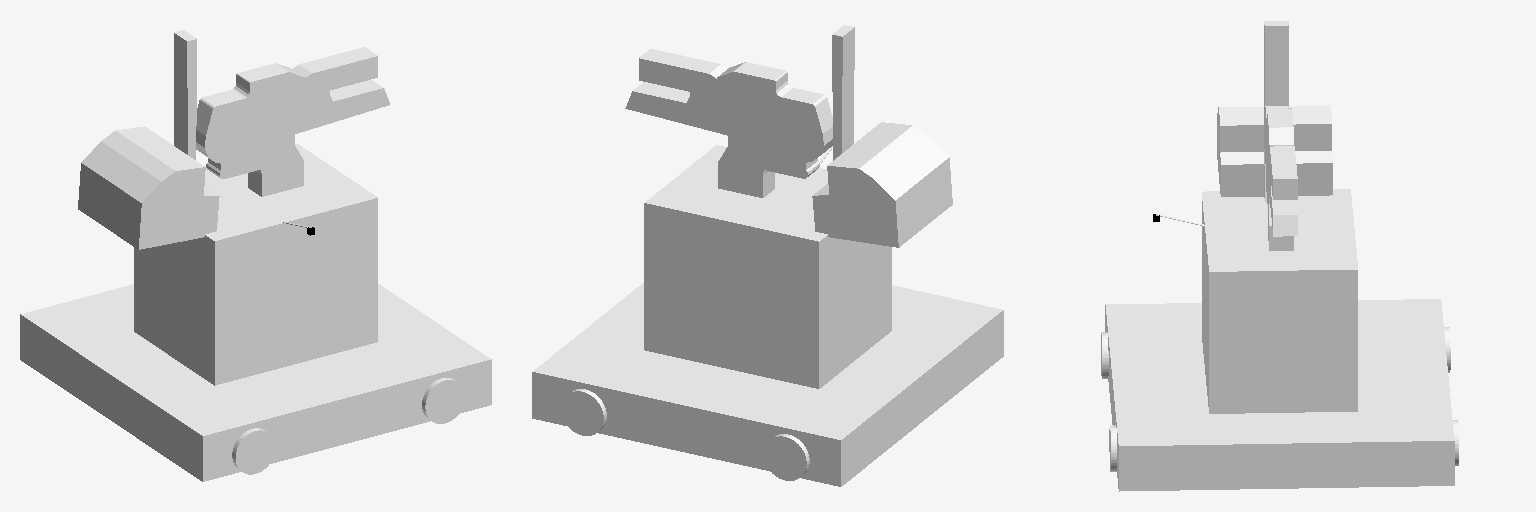
URDF robot description (robot):
<?xml version="1.0" encoding="utf-8"?>
<!-- This URDF was automatically created by SolidWorks to URDF Exporter! Originally created by [author] ([email redacted]) 
     Commit Version: 1.6.0-4-g7f85cfe  Build Version: 1.6.7995.38578
     For more information, please see http://wiki.ros.org/sw_urdf_exporter -->
<robot
  name="robot">
  <link
    name="base_link">
    <inertial>
      <origin
        xyz="0 0 0"
        rpy="0 0 0" />
      <mass
        value="10" />
      <inertia
        ixx="0.1"
        ixy="0"
        ixz="0"
        iyy="0.1"
        iyz="0"
        izz="0.1" />
    </inertial>
    <visual>
      <origin
        xyz="0 0 0"
        rpy="0 0 0" />
      <geometry>
        <mesh
          filename="package://robot/meshes/base_link.STL" />
      </geometry>
      <material
        name="">
        <color
          rgba="1 1 1 1" />
      </material>
    </visual>
    <collision>
      <origin
        xyz="0 0 0"
        rpy="0 0 0" />
      <geometry>
        <mesh
          filename="package://robot/meshes/base_link.STL" />
      </geometry>
    </collision>
  </link>
  <link
    name="wheel_link1">
    <inertial>
      <origin
        xyz="0 0 0"
        rpy="0 0 0" />
      <mass
        value="2" />
      <inertia
        ixx="0.01"
        ixy="0"
        ixz="0"
        iyy="0.01"
        iyz="0"
        izz="0.01" />
    </inertial>
    <visual>
      <origin
        xyz="0 0 0"
        rpy="0 0 0" />
      <geometry>
        <mesh
          filename="package://robot/meshes/wheel_link1.STL" />
      </geometry>
      <material
        name="">
        <color
          rgba="1 1 1 1" />
      </material>
    </visual>
    <collision>
      <origin
        xyz="0 0 0"
        rpy="0 0 0" />
      <geometry>
        <mesh
          filename="package://robot/meshes/wheel_link1.STL" />
      </geometry>
    </collision>
  </link>
  <joint
    name="wheel_joint1"
    type="continuous">
    <origin
      xyz="0.15595 -0.26408 -0.1411"
      rpy="0 0 0" />
    <parent
      link="base_link" />
    <child
      link="wheel_link1" />
    <axis
      xyz="0 1 0" />
  </joint>
  <link
    name="wheel_link2">
    <inertial>
      <origin
        xyz="0 0 0"
        rpy="0 0 0" />
      <mass
        value="2" />
      <inertia
        ixx="0.01"
        ixy="0"
        ixz="0"
        iyy="0.01"
        iyz="0"
        izz="0.01" />
    </inertial>
    <visual>
      <origin
        xyz="0 0 0"
        rpy="0 0 0" />
      <geometry>
        <mesh
          filename="package://robot/meshes/wheel_link2.STL" />
      </geometry>
      <material
        name="">
        <color
          rgba="1 1 1 1" />
      </material>
    </visual>
    <collision>
      <origin
        xyz="0 0 0"
        rpy="0 0 0" />
      <geometry>
        <mesh
          filename="package://robot/meshes/wheel_link2.STL" />
      </geometry>
    </collision>
  </link>
  <joint
    name="wheel_joint2"
    type="continuous">
    <origin
      xyz="-0.19822 -0.2881 -0.1411"
      rpy="0 0 0" />
    <parent
      link="base_link" />
    <child
      link="wheel_link2" />
    <axis
      xyz="0 1 0" />
  </joint>
  <link
    name="wheel_link3">
    <inertial>
      <origin
        xyz="0 0 0"
        rpy="0 0 0" />
      <mass
        value="2" />
      <inertia
        ixx="0.01"
        ixy="0"
        ixz="0"
        iyy="0.01"
        iyz="0"
        izz="0.01" />
    </inertial>
    <visual>
      <origin
        xyz="0 0 0"
        rpy="0 0 0" />
      <geometry>
        <mesh
          filename="package://robot/meshes/wheel_link3.STL" />
      </geometry>
      <material
        name="">
        <color
          rgba="1 1 1 1" />
      </material>
    </visual>
    <collision>
      <origin
        xyz="0 0 0"
        rpy="0 0 0" />
      <geometry>
        <mesh
          filename="package://robot/meshes/wheel_link3.STL" />
      </geometry>
    </collision>
  </link>
  <joint
    name="wheel_joint3"
    type="continuous">
    <origin
      xyz="-0.21996 0.26147 -0.1411"
      rpy="0 0 0" />
    <parent
      link="base_link" />
    <child
      link="wheel_link3" />
    <axis
      xyz="0 1 0" />
  </joint>
  <link
    name="wheel_link4">
    <inertial>
      <origin
        xyz="0 0 0"
        rpy="0 0 0" />
      <mass
        value="2" />
      <inertia
        ixx="0.01"
        ixy="0"
        ixz="0"
        iyy="0.01"
        iyz="0"
        izz="0.01" />
    </inertial>
    <visual>
      <origin
        xyz="0 0 0"
        rpy="0 0 0" />
      <geometry>
        <mesh
          filename="package://robot/meshes/wheel_link4.STL" />
      </geometry>
      <material
        name="">
        <color
          rgba="1 1 1 1" />
      </material>
    </visual>
    <collision>
      <origin
        xyz="0 0 0"
        rpy="0 0 0" />
      <geometry>
        <mesh
          filename="package://robot/meshes/wheel_link4.STL" />
      </geometry>
    </collision>
  </link>
  <joint
    name="wheel_joint4"
    type="continuous">
    <origin
      xyz="0.13421 0.28549 -0.1411"
      rpy="0 0 0" />
    <parent
      link="base_link" />
    <child
      link="wheel_link4" />
    <axis
      xyz="0 1 0" />
  </joint>
  <link
    name="lidar_link">
    <inertial>
      <origin
        xyz="0 0 0"
        rpy="0 0 0" />
      <mass
        value="0.1" />
      <inertia
        ixx="0"
        ixy="0"
        ixz="0"
        iyy="0"
        iyz="0"
        izz="0" />
    </inertial>
    <visual>
      <origin
        xyz="0 0 0"
        rpy="0 0 0" />
      <geometry>
        <mesh
          filename="package://robot/meshes/lidar_link.STL" />
      </geometry>
      <material
        name="">
        <color
          rgba="0 0 0 1" />
      </material>
    </visual>
    <collision>
      <origin
        xyz="0 0 0"
        rpy="0 0 0" />
      <geometry>
        <mesh
          filename="package://robot/meshes/lidar_link.STL" />
      </geometry>
    </collision>
  </link>
  <joint
    name="lidar_joint"
    type="fixed">
    <origin
      xyz="-0.046164 -0.20002 0.16926"
      rpy="0 0 0" />
    <parent
      link="base_link" />
    <child
      link="lidar_link" />
    <axis
      xyz="0 0 0" />
  </joint>
  <gazebo reference="base_link">
    <material>Gazebo/Yellow</material>
  </gazebo>
  <gazebo reference="wheel_link1">
    <material>Gazebo/Black</material>
  </gazebo>
  <gazebo reference="wheel_link2">
    <material>Gazebo/Black</material>
  </gazebo>
  <gazebo reference="wheel_link3">
    <material>Gazebo/Black</material>
  </gazebo>
  <gazebo reference="wheel_link4">
    <material>Gazebo/Black</material>
  </gazebo>



  <!-- 麦轮控制器 -->
  <gazebo>
      <plugin name="mecanum_controller" filename="libgazebo_ros_planar_move.so">
          <commandTopic>cmd_vel1</commandTopic>
          <odometryTopic>odom</odometryTopic>
          <odometryFrame>odom</odometryFrame>
          <leftFrontJoint>wheel_joint4</leftFrontJoint>
          <rightFrontJoint>wheel_joint1</rightFrontJoint>
          <leftRearJoint>wheel_joint3</leftRearJoint>
          <rightRearJoint>wheel_joint2</rightRearJoint>
          <odometryRate>100</odometryRate>
          <robotBaseFrame>base_link</robotBaseFrame>
          <broadcastTF>1</broadcastTF>
      </plugin>
  </gazebo>
  <gazebo reference="lidar_link">

      <!-- 发布lidar数据 -->
      <sensor type="ray" name="lidar_link">
        <pose>0 0 0 0 3.1415 0</pose>
        <visualize>true</visualize>  <!-- 从visualize参数展开 -->
        <update_rate>10</update_rate>  <!-- 从update_rate参数展开 -->
        
        <!-- liblivox_laser_simulation插件配置 -->
        <plugin name="gazebo_ros_laser_controller" filename="liblivox_laser_simulation.so">
          <publish_pointcloud_type>1</publish_pointcloud_type>
          <ray>
            <scan>
              <!-- 水平扫描配置 -->
              <horizontal>
                <samples>100</samples>
                <resolution>1</resolution>
                <min_angle>0</min_angle>  <!-- 0弧度 -->
                <max_angle>6.28318</max_angle>  <!-- 2 * 3.14159 = 6.28318弧度 (360度) -->
              </horizontal>
              
              <!-- 垂直扫描配置 -->
              <vertical>
                <samples>360</samples>
                <resolution>1</resolution>
                <min_angle>-0.1260</min_angle>  <!-- -7.22度转弧度: -7.22/180*3.14159 = -0.1260 -->
                <max_angle>0.9636</max_angle>   <!-- 55.22度转弧度: 55.22/180*3.14159 = 0.9636 -->
              </vertical>
            </scan>
            
            <!-- 距离范围配置 -->
            <range>
              <min>0.1</min>        <!-- laser_min_range -->
              <max>200.0</max>      <!-- laser_max_range -->
              <resolution>0.002</resolution>  <!-- 从resolution参数展开 -->
            </range>
            
            <!-- 噪声配置 -->
            <noise>
              <type>gaussian</type>
              <mean>0.0</mean>      <!-- noise_mean -->
              <stddev>0.01</stddev> <!-- noise_stddev -->
            </noise>
          </ray>
          
          <!-- 插件参数 -->
          <visualize>false</visualize>        <!-- 从visualize参数展开 -->
          <samples>24000</samples>           <!-- samples属性 -->
          <downsample>1</downsample>         <!-- downsample属性 -->
          <csv_file_name>package://livox_laser_simulation/scan_mode/mid360.csv</csv_file_name>
          <ros_topic>/livox/lidar</ros_topic>        <!-- ros_topic属性 -->
          <frame_name>lidar_link</frame_name>
        </plugin>
      </sensor>
  </gazebo>

      <!-- 机器人模型中添加IMU插件 -->
  <gazebo reference="lidar_link">
    <!-- <gravity>true</gravity> -->
      <!-- 发布imu数据 -->
    <sensor name="imu" type="imu">
      <pose>0 0 0 0 0 0</pose>
      <always_on>true</always_on>
      <update_rate>10</update_rate>
      <plugin name="imu_plugin" filename="libgazebo_ros_imu_sensor.so">
          <robotNamespace></robotNamespace>
          <topicName>/imu/data</topicName>
          <frameName>lidar_link</frameName>
      </plugin>
    </sensor>
  </gazebo>
  <!-- 雷达 -->
  <!-- <gazebo reference="lidar_link">
    <sensor type="ray" name="rplidar">
      <pose>0 0 0 0 3.1415 0</pose>
      <visualize>false</visualize>
      <update_rate>5</update_rate>
      <ray>
        <scan>
          <horizontal>
            <samples>360</samples>
            <resolution>1</resolution>
            <min_angle>-3</min_angle>
            <max_angle>3</max_angle>
          </horizontal>
        </scan>
        <range>
          <min>0.10</min>
          <max>30.0</max>
          <resolution>0.01</resolution>
        </range>
        <noise>
          <type>gaussian</type>
          <mean>0.0</mean>
          <stddev>0.01</stddev>
        </noise>
      </ray>
      <plugin name="gazebo_rplidar" filename="libgazebo_ros_laser.so">
        <topicName>/scan1</topicName>
        <frameName>lidar_link</frameName>
      </plugin>
    </sensor>
  </gazebo> -->
</robot>

--- Facts derived from the render (not from the file) ---
The picture shows the robot from 3 angles, left to right: view 1: azimuth 30°, elevation 25°; view 2: azimuth 150°, elevation 25°; view 3: azimuth 270°, elevation 25°; orthographic projection.
Model robot with 6 links and 5 joints (4 continuous, 1 fixed), rooted at base_link, posed all joints at 0.
Links seen in each view (by area): view 1: base_link, wheel_link2, wheel_link1; view 2: base_link, wheel_link4, wheel_link3; view 3: base_link.
Link boxes in pixels (x1,y1,x2,y2): base_link: (20, 30, 491, 481); wheel_link2: (232, 428, 275, 474); wheel_link1: (422, 378, 464, 423); base_link: (532, 25, 1003, 486); wheel_link4: (561, 389, 606, 435); wheel_link3: (764, 434, 809, 480); base_link: (1105, 20, 1454, 491).
Bounding box of the posed robot: 0.5609 × 0.5766 × 0.6431 m (x, y, z).
Meshes: 6 distinct files referenced, 6 mesh visuals loaded (6 binary STL).
